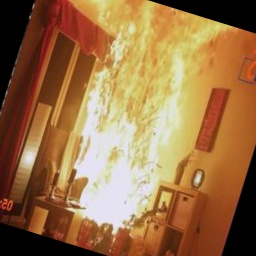fire: (29, 0, 241, 241)
